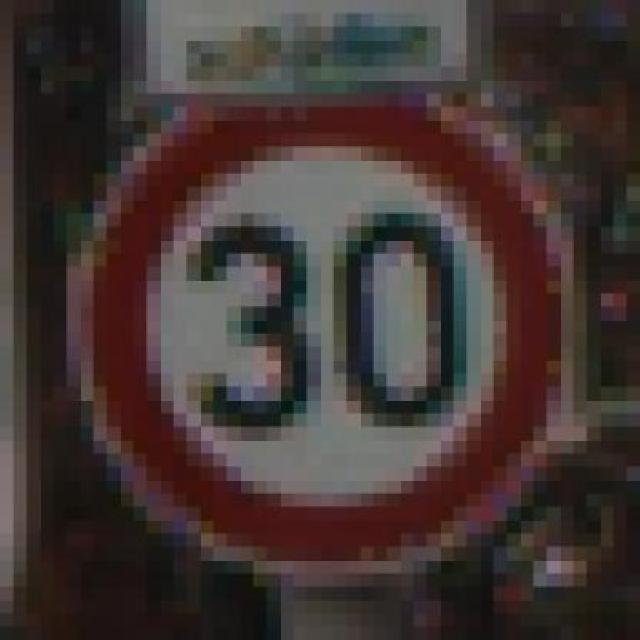Speed Limit 30 KMPh: (53, 66, 601, 600)
